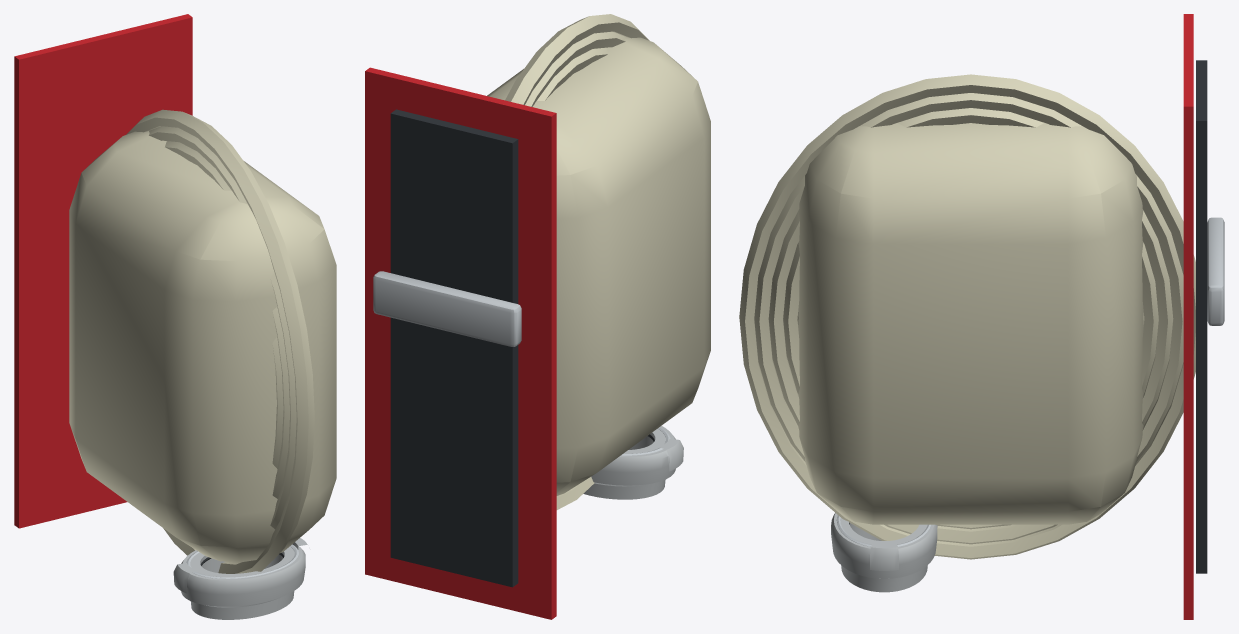
File: ob_closed_case_g4_1.glb
The picture shows the model from 3 angles, left to right: view 1: azimuth 30°, elevation 25°; view 2: azimuth 150°, elevation 25°; view 3: azimuth 270°, elevation 25°; orthographic projection. The views are drawn at different scales.
Visible parts, largest first — view 1: ob_closed_case_g4_1; view 2: ob_closed_case_g4_1; view 3: ob_closed_case_g4_1.
Part boxes in pixels (box(x1,y1,x2,y2)): ob_closed_case_g4_1: box(14, 14, 336, 619); ob_closed_case_g4_1: box(365, 14, 710, 619); ob_closed_case_g4_1: box(739, 14, 1224, 619).
Bounding box in the file's own units: 0.19 × 0.49 × 0.42.
